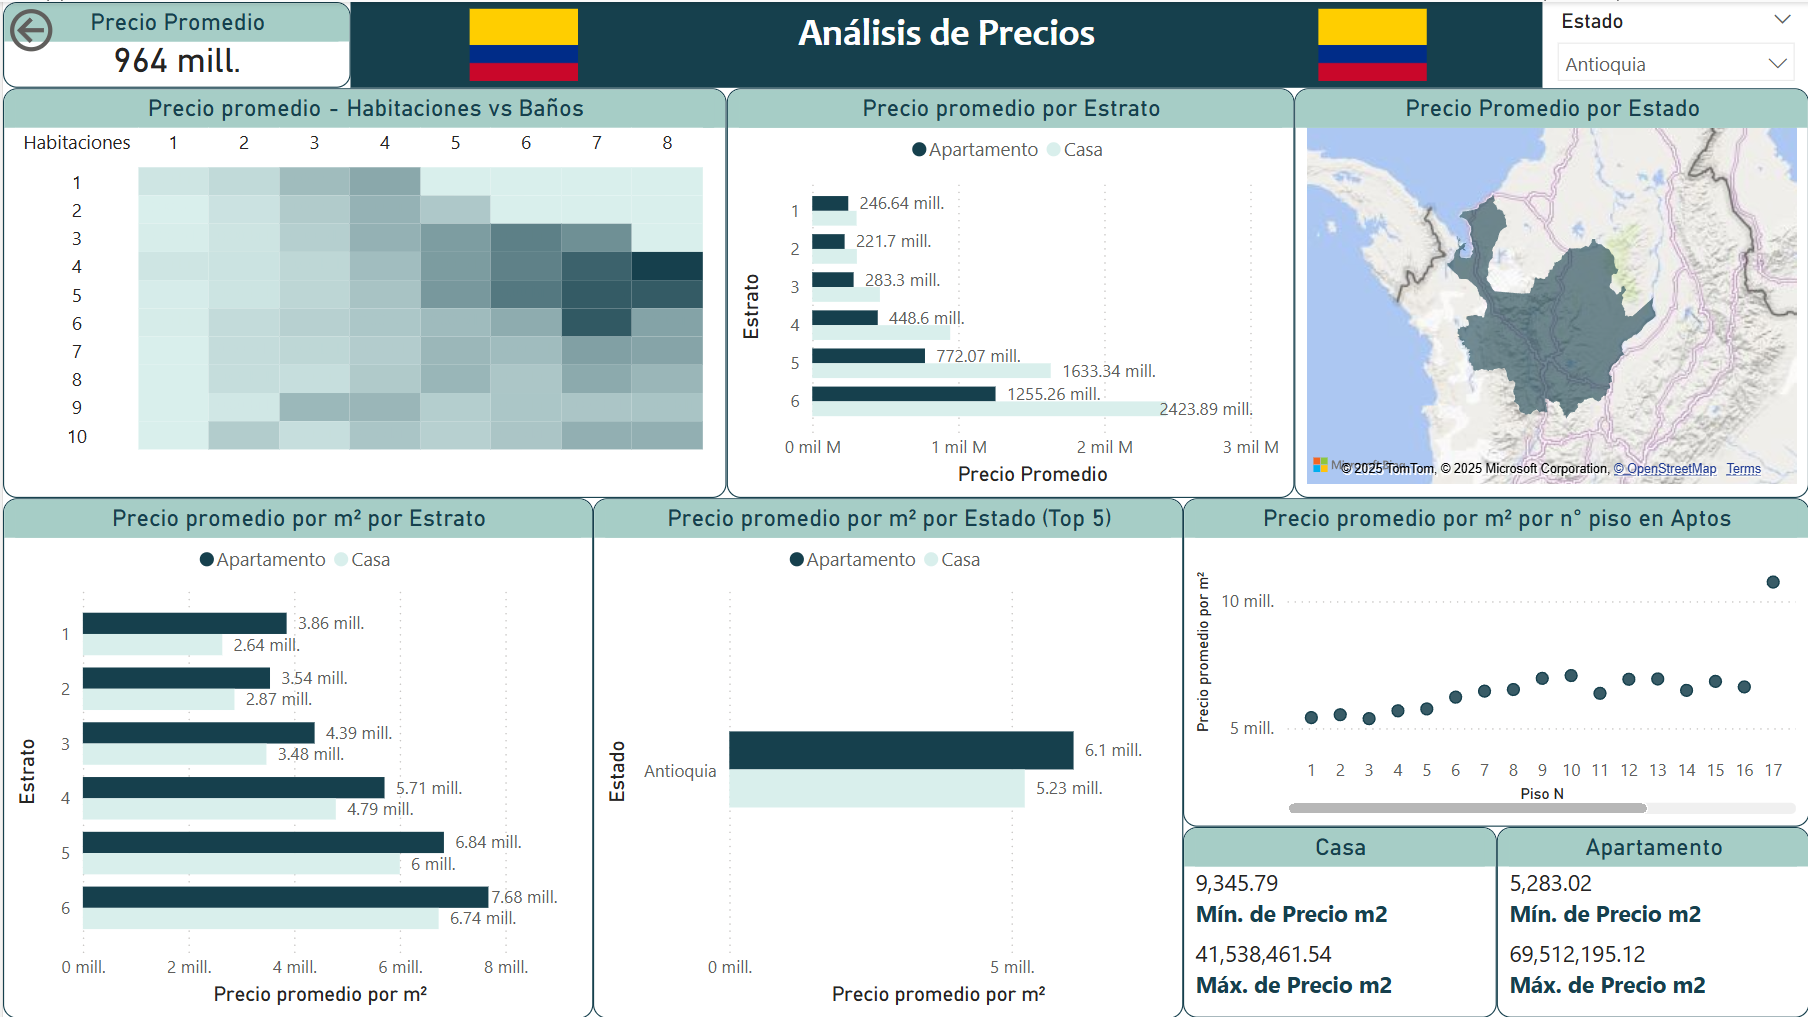

The page's visual inventory and layout, read from the dashboard file:
{"tool":"powerbi","page":{"name":"Análisis de Precios","canvas":[1280,720],"ordinal":1},"visuals":[{"type":"slicer","fields":{"Values":["Props.Estado"]},"box":[1091.5,0,188.7,61.1],"z":0},{"type":"card","title":"Precio Promedio","fields":{"Values":["Avg(Props.Precio)"]},"box":[0,0,246.3,61.1],"z":1000},{"type":"textbox","box":[246.3,0,845.2,61.1],"z":2000},{"type":"clusteredBarChart","title":"Precio promedio por Estrato","fields":{"Category":["Props.Estrato"],"Y":["Avg(Props.Precio)"],"Series":["Props.Tipo Propiedad"]},"box":[513,61.1,402.2,290.6],"z":3000},{"type":"image","box":[901.9,0,137.3,61.1],"z":4000},{"type":"image","box":[300.3,0,137.3,61.1],"z":5000},{"type":"filledMap","title":"Precio Promedio por Estado","fields":{"Category":["Props.Estado"]},"box":[915.2,61.1,365,290.6],"z":6000},{"type":"actionButton","box":[0,0,100,40],"z":7000},{"type":"multiRowCard","title":"Casa","fields":{"Values":["Min(Props.Precio m2)","Max(Props.Precio m2)1"]},"box":[836.3,584.7,222.4,135.5],"z":8000},{"type":"clusteredBarChart","title":"Precio promedio por m² por Estrato","fields":{"Category":["Props.Estrato"],"Y":["Avg(Props.Precio m2)"],"Series":["Props.Tipo Propiedad"]},"box":[0,351.7,418.2,368.6],"z":9000},{"type":"clusteredBarChart","title":"Precio promedio por m² por Estado (Top 5)","fields":{"Category":["Props.Estado"],"Y":["Avg(Props.Precio m2)"],"Series":["Props.Tipo Propiedad"]},"box":[418.2,351.7,418.2,368.6],"z":10000},{"type":"scatterChart","title":"Precio promedio por m² por n° piso en Aptos","fields":{"Series":["Props.Tipo Propiedad"],"Y":["Avg(Props.Precio m2)"],"X":["Props.Piso N"]},"box":[836.3,351.7,443.9,233],"z":11000},{"type":"multiRowCard","title":"Apartamento","fields":{"Values":["Min(Props.Precio m2)","Max(Props.Precio m2)1"]},"box":[1058.7,584.7,221.5,135.5],"z":12000},{"type":"pivotTable","title":"Precio promedio - Habitaciones vs Baños","fields":{"Columns":["Props.Banos"],"Rows":["Props.Habitaciones"],"Values":["Avg(Props.Precio)"]},"box":[0,61.1,513,290.6],"z":13000}]}

Visuals, with their boxes in screenshot pixels (x1, y1, x2, y2), scaled from the page's 1280x720 canvas onto the 1808x1017 screenshot:
slicer - Props.Estado: 1542 0 1807 86
"Precio Promedio" card: 0 0 348 86
textbox: 348 0 1542 86
"Precio promedio por Estrato" clusteredBarChart: 725 86 1293 497
image: 1274 0 1468 86
image: 424 0 618 86
"Precio Promedio por Estado" filledMap: 1293 86 1807 497
actionButton: 0 0 141 56
"Casa" multiRowCard: 1181 826 1495 1016
"Precio promedio por m² por Estrato" clusteredBarChart: 0 497 591 1016
"Precio promedio por m² por Estado (Top 5)" clusteredBarChart: 591 497 1181 1016
"Precio promedio por m² por n° piso en Aptos" scatterChart: 1181 497 1807 826
"Apartamento" multiRowCard: 1495 826 1807 1016
"Precio promedio - Habitaciones vs Baños" pivotTable: 0 86 725 497
